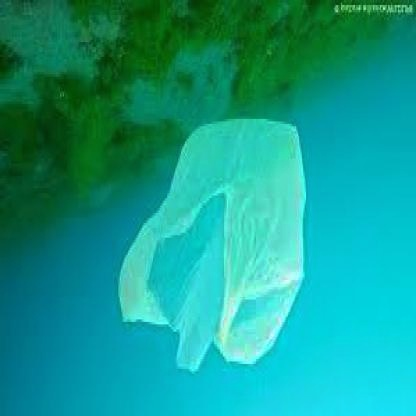pbag: (117, 116, 306, 376)
